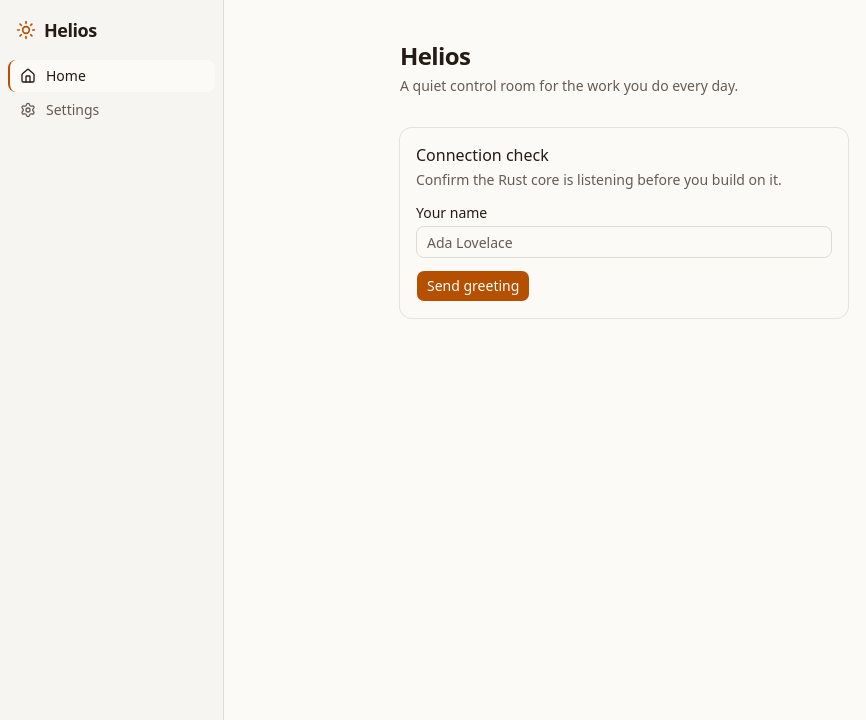
Test: greets through the ipc bindings
The image size is (866, 720).
Type "Ada" into the field labelled "Your name" at (624, 242), box [416, 226, 832, 258]
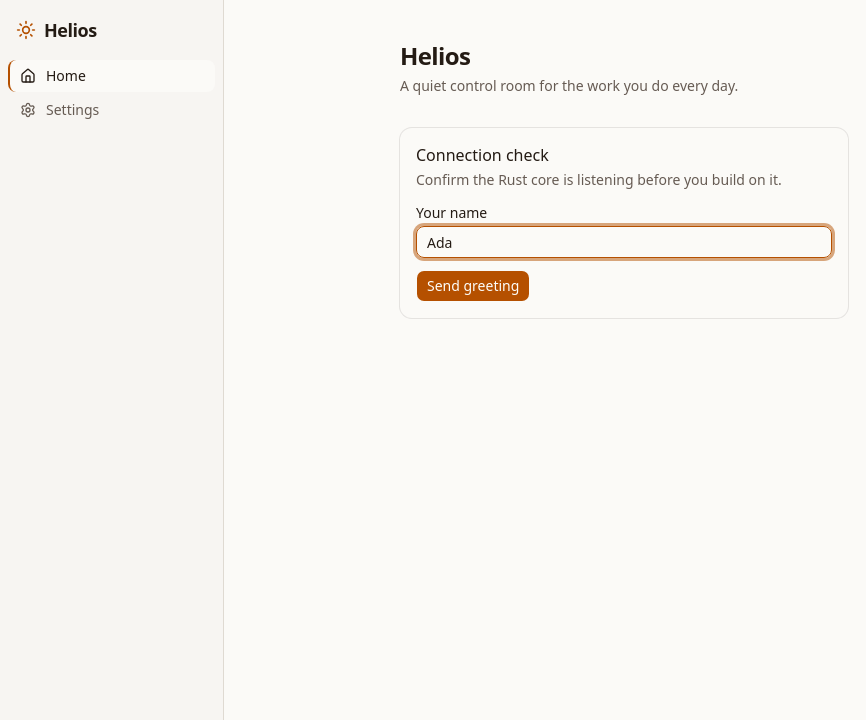
Click the button "Send greeting" at (473, 286), box [416, 270, 530, 302]
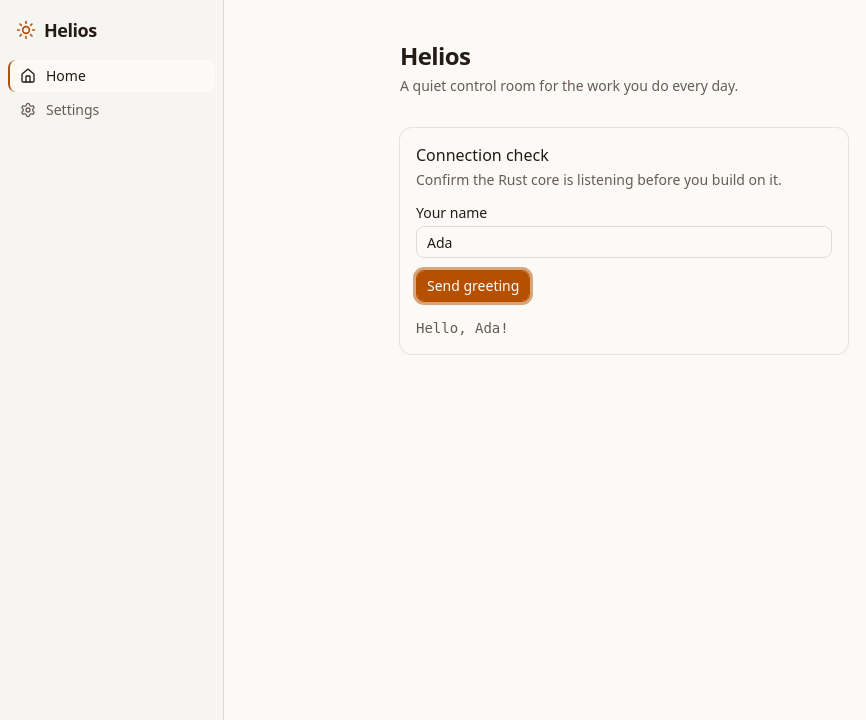
Expected: the text "Hello, Ada!" is shown, [416, 320, 509, 336]
